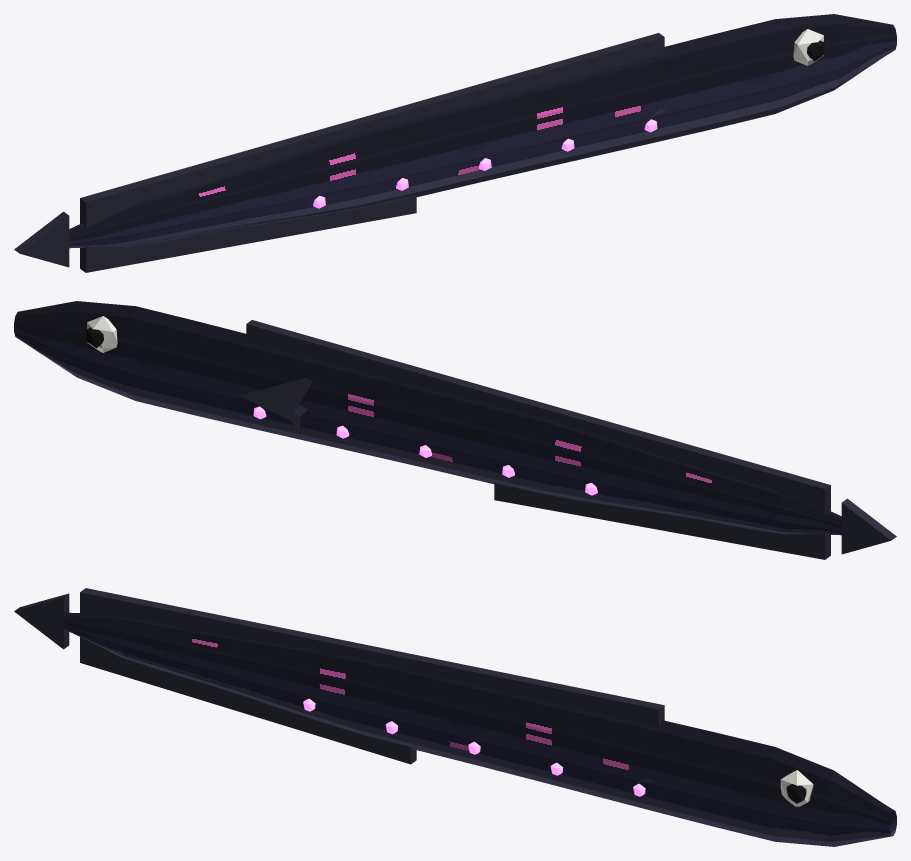
The model's file is dragonfish.glb.
3 views of the same model, one above another, from view 1: azimuth 30°, elevation 25°; view 2: azimuth 150°, elevation 25°; view 3: azimuth 330°, elevation 25° (orthographic).
Parts seen in each view (by area): view 1: fish_dragonfish; view 2: fish_dragonfish; view 3: fish_dragonfish.
Boxes of the visible parts, x1=… form: fish_dragonfish: x1=14, y1=14, x2=896, y2=272; fish_dragonfish: x1=14, y1=301, x2=896, y2=559; fish_dragonfish: x1=14, y1=588, x2=896, y2=846.
Size of the model in its own units: 1.06 by 0.1336 by 0.0706.
Materials: 5 (1 with a texture image).
